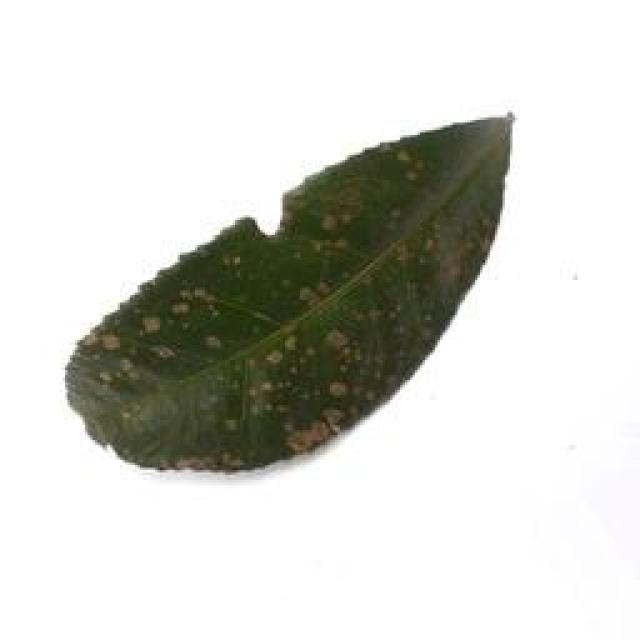Algal Leaf Spot: (64, 114, 525, 479)
